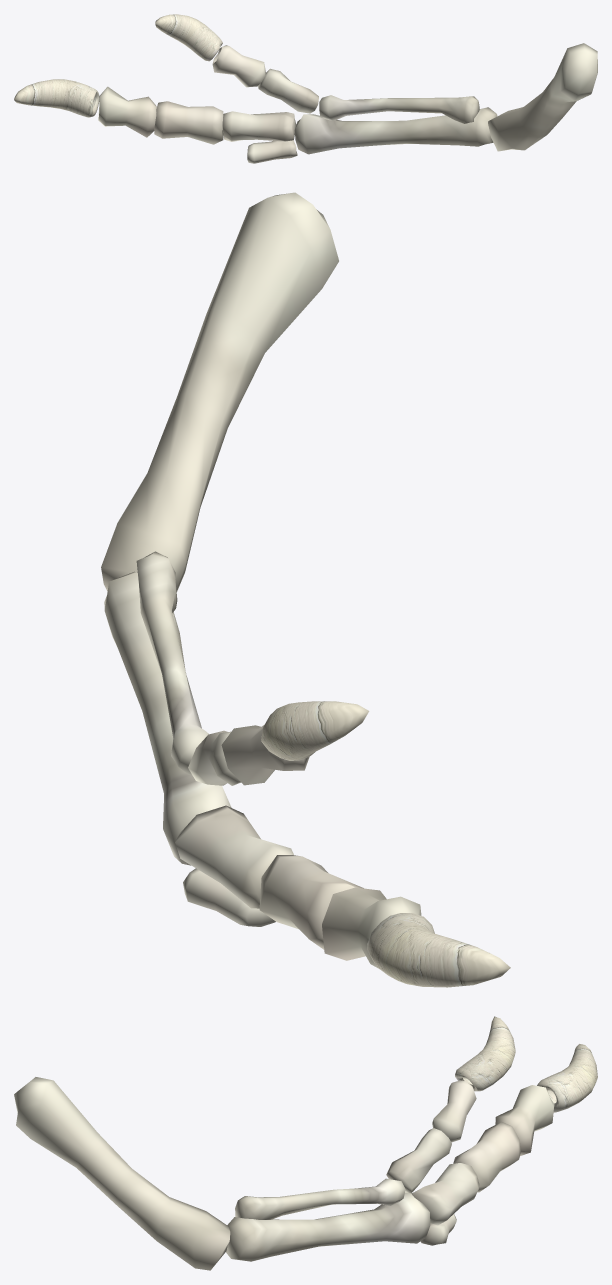
The model's file is dinoBrazoDer.obj.
3 renders of one model, top to bottom at view 1: azimuth 30°, elevation 25°; view 2: azimuth 150°, elevation 25°; view 3: azimuth 270°, elevation 25°, orthographic. The views are drawn at different scales.
Visible parts, largest first — view 1: brazoDerecho; view 2: brazoDerecho; view 3: brazoDerecho.
Boxes of the visible parts, x1=… form: brazoDerecho: x1=14, y1=14, x2=597, y2=163; brazoDerecho: x1=101, y1=192, x2=510, y2=987; brazoDerecho: x1=14, y1=1016, x2=597, y2=1270.
Size of the model in its own units: 1.81 by 0.9702 by 2.15.
1 material, 1 textured.
